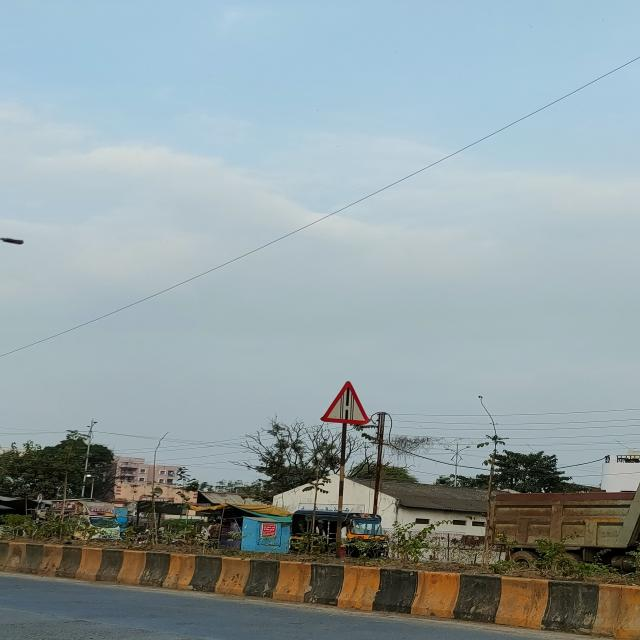GAP_IN_MEDIAN: (320, 379, 368, 425)
